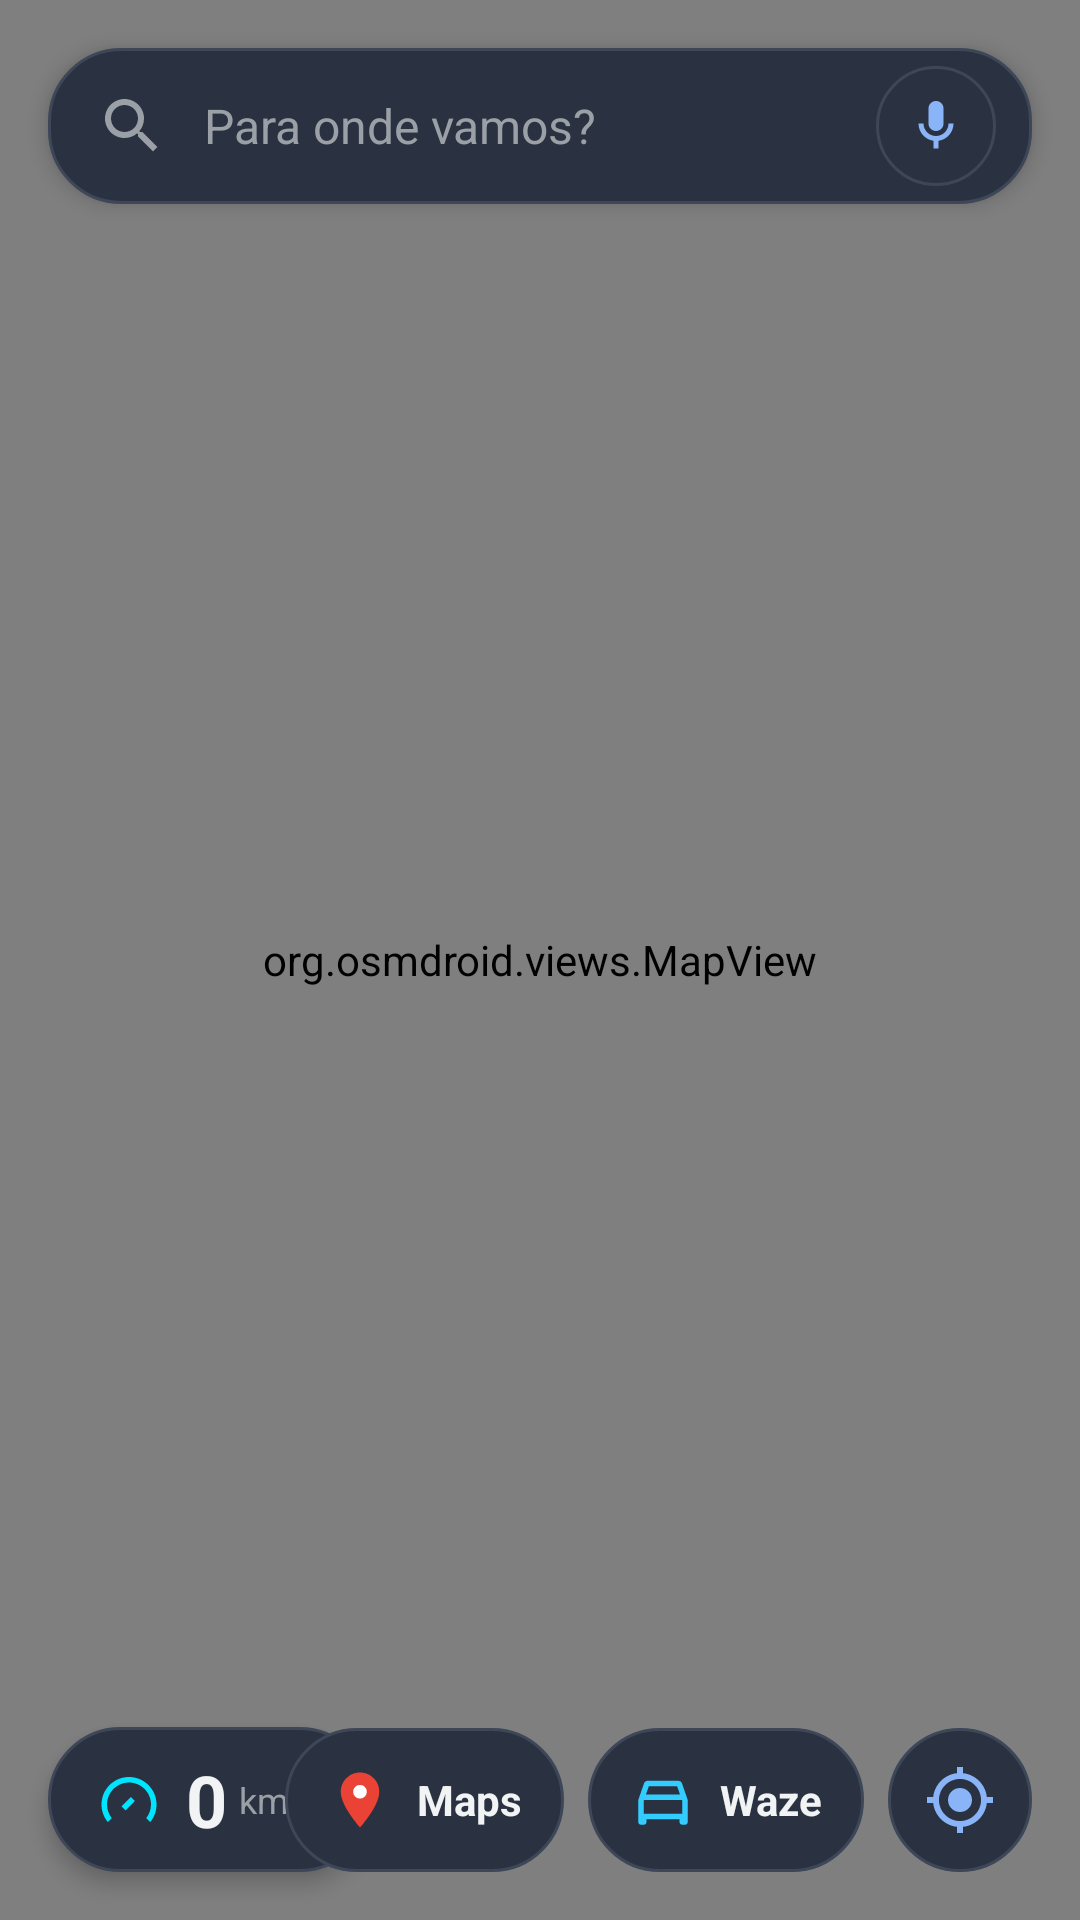

Icon click points for this 1080×1920 phone screenshot, format (x=x, y=y):
gps fixed: (x=960, y=1800)
mic: (x=936, y=125)
search: (x=131, y=125)
speedometer: (x=129, y=1799)
